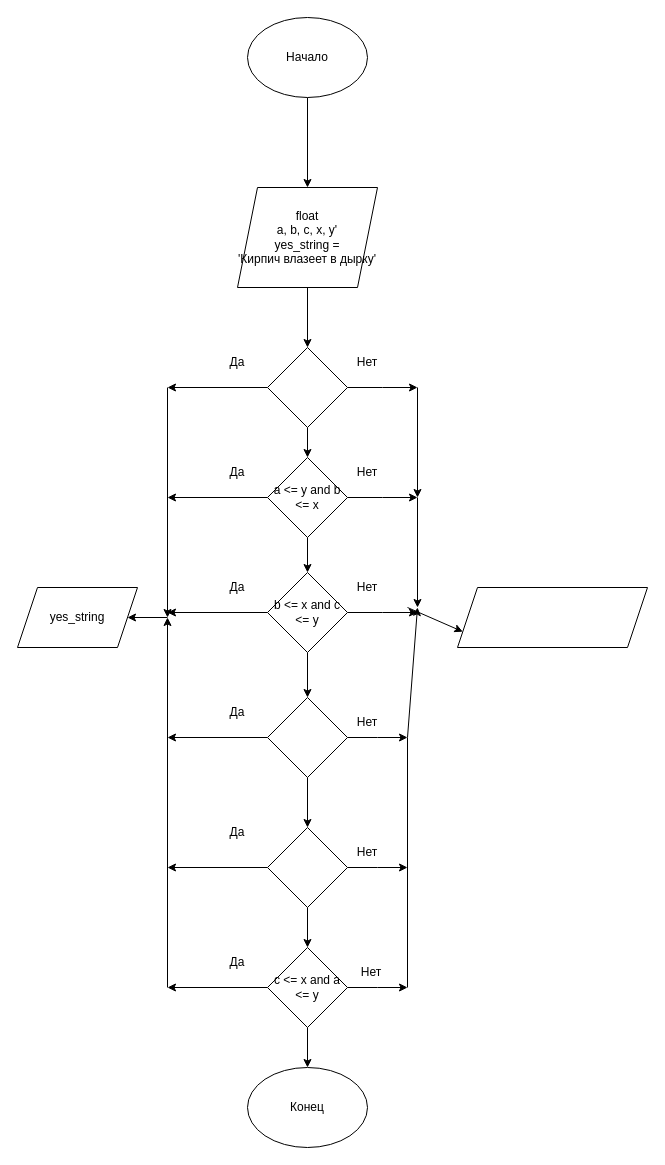
Some shapes in this 665 by 1165 pixel diagram are drawn without their labels. The centre of each missing label's shape, as x and y in pixels:
"'Кирпич не влазеет в дырку'" belongs at (x=552, y=617).
"a <= x and b <= y" belongs at (x=307, y=387).
"a <= x and c <= y" belongs at (x=307, y=867).
"c <= x and b <= y" belongs at (x=307, y=737).
